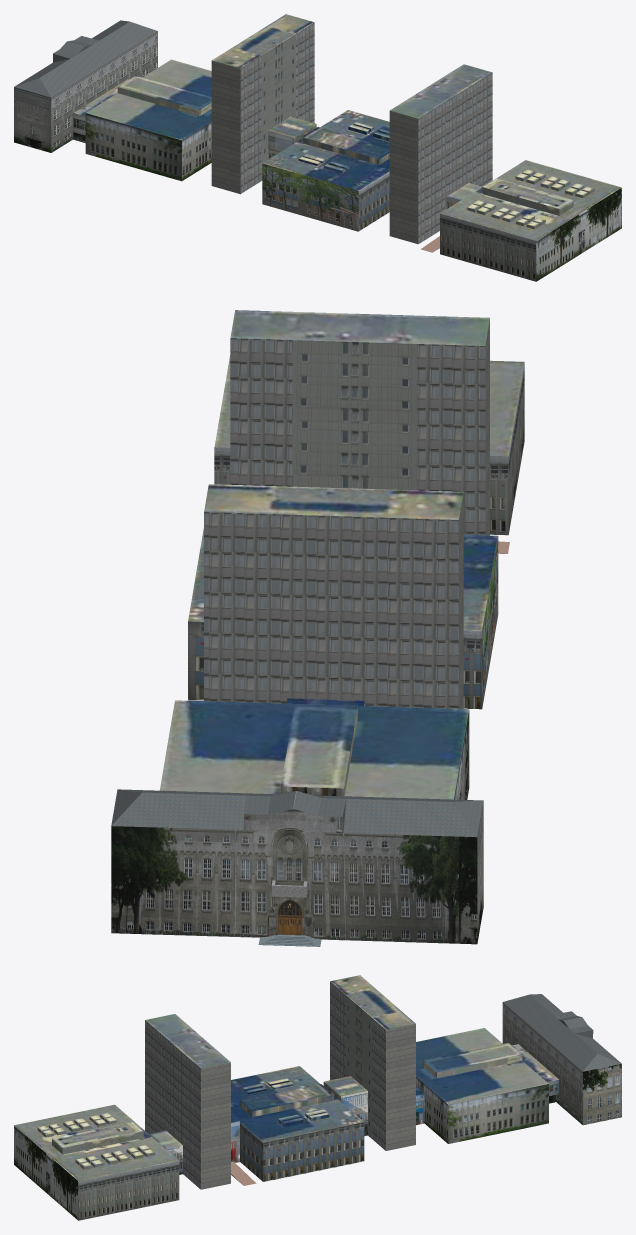
The model's file is 5_Sentralbygget.obj.
3 renders of one model, top to bottom at view 1: azimuth 30°, elevation 25°; view 2: azimuth 150°, elevation 25°; view 3: azimuth 270°, elevation 25°, orthographic. The views are drawn at different scales.
Parts seen in each view (by area): view 1: mesh1_mesh1-geometry, mesh10_mesh10-geometry, mesh5_mesh5-geometry, mesh3_mesh3-geometry, mesh7_mesh7-geometry, mesh9_mesh9-geometry, mesh4_mesh4-geometry, mesh8_mesh8-geometry; view 2: mesh5_mesh5-geometry, mesh9_mesh9-geometry, mesh10_mesh10-geometry, mesh7_mesh7-geometry, mesh3_mesh3-geometry, mesh1_mesh1-geometry; view 3: mesh1_mesh1-geometry, mesh7_mesh7-geometry, mesh3_mesh3-geometry, mesh10_mesh10-geometry, mesh5_mesh5-geometry, mesh9_mesh9-geometry, mesh4_mesh4-geometry, mesh8_mesh8-geometry, mesh2_mesh2-geometry.
Part boxes in pixels (x1,y1,x2,y2): mesh1_mesh1-geometry: [421, 160, 621, 281]; mesh10_mesh10-geometry: [389, 64, 492, 244]; mesh5_mesh5-geometry: [211, 14, 314, 194]; mesh3_mesh3-geometry: [262, 110, 389, 231]; mesh7_mesh7-geometry: [85, 59, 211, 181]; mesh9_mesh9-geometry: [14, 20, 157, 152]; mesh4_mesh4-geometry: [268, 116, 316, 159]; mesh8_mesh8-geometry: [73, 79, 128, 142]; mesh5_mesh5-geometry: [204, 484, 463, 708]; mesh9_mesh9-geometry: [111, 789, 483, 946]; mesh10_mesh10-geometry: [230, 310, 489, 535]; mesh7_mesh7-geometry: [159, 700, 469, 799]; mesh3_mesh3-geometry: [188, 528, 498, 709]; mesh1_mesh1-geometry: [214, 355, 524, 553]; mesh1_mesh1-geometry: [14, 1104, 182, 1220]; mesh7_mesh7-geometry: [416, 1028, 548, 1143]; mesh3_mesh3-geometry: [231, 1066, 364, 1181]; mesh10_mesh10-geometry: [145, 1014, 230, 1189]; mesh5_mesh5-geometry: [330, 975, 415, 1150]; mesh9_mesh9-geometry: [502, 994, 621, 1125]; mesh4_mesh4-geometry: [323, 1076, 367, 1136]; mesh8_mesh8-geometry: [512, 1044, 559, 1103]; mesh2_mesh2-geometry: [231, 1113, 239, 1162].
Bounding box in the file's own units: 132 × 43.01 × 195.
Materials: 46 (45 with a texture image).
